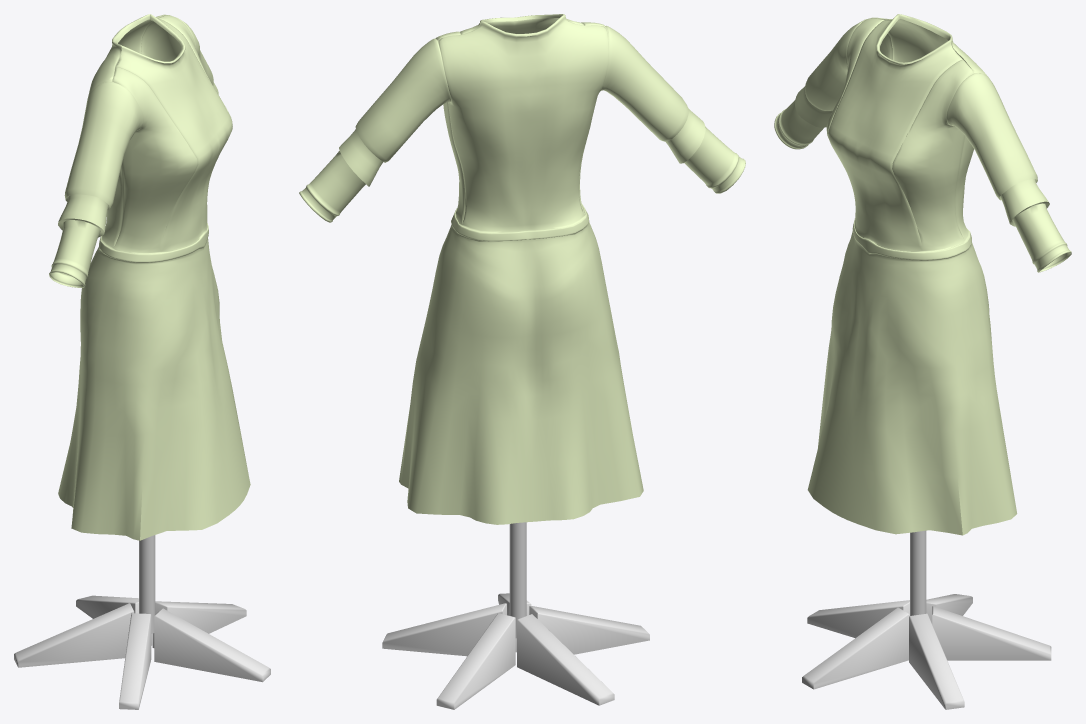
File: female long gaon .fbx
The picture shows the model from 3 angles, left to right: view 1: azimuth 30°, elevation 25°; view 2: azimuth 150°, elevation 25°; view 3: azimuth 270°, elevation 25°; orthographic projection. The views are drawn at different scales.
Visible parts, largest first — view 1: Plane001, Cube_3, Cube_1, Cube_2, Cube_4, Cylinder, Cube_5; view 2: Plane001, Cube_1, Cube_5, Cube_4, Cube_2, Cylinder; view 3: Plane001, Cube_3, Cube_5, Cube_4, Cube_2, Cylinder, Cube_1.
Part boxes in pixels (x1,y1,x2,y2): Plane001: (49,14,250,540); Cube_3: (154,608,270,682); Cube_1: (14,603,134,667); Cube_2: (119,613,151,709); Cube_4: (152,601,246,647); Cylinder: (139,535,155,633); Cube_5: (76,595,152,645); Plane001: (299,14,745,524); Cube_1: (517,614,614,705); Cube_5: (436,613,515,709); Cube_4: (382,603,506,656); Cube_2: (529,606,649,654); Cylinder: (509,522,526,638); Plane001: (774,14,1071,535); Cube_3: (802,607,909,689); Cube_5: (932,606,1051,660); Cube_4: (909,613,964,709); Cube_2: (807,600,909,638); Cylinder: (910,530,926,615); Cube_1: (926,594,972,623).
Size of the model in its own units: 583 by 1158 by 501.
